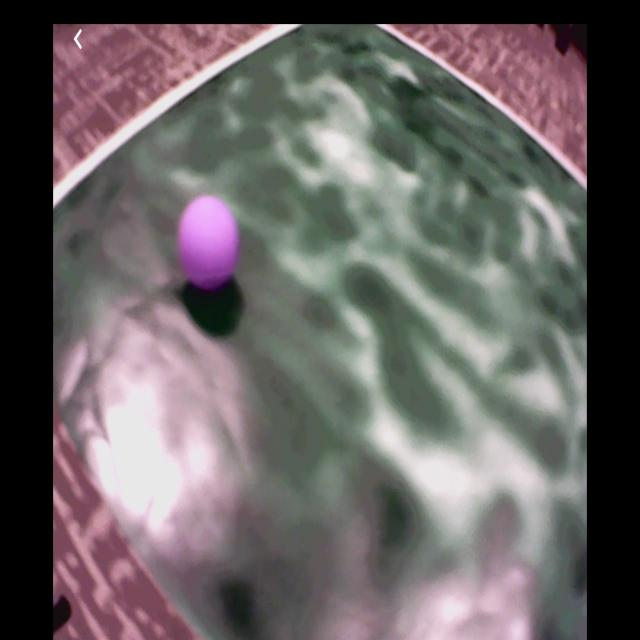ball: (179, 196, 239, 290)
